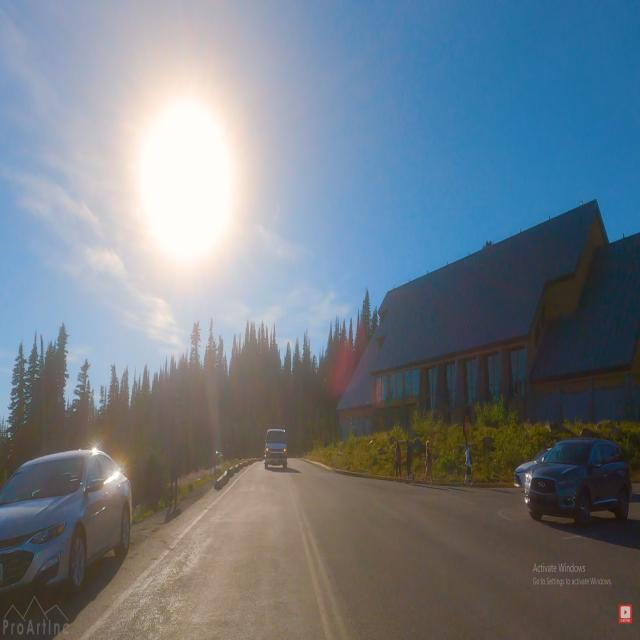sun: (95, 62, 272, 313)
